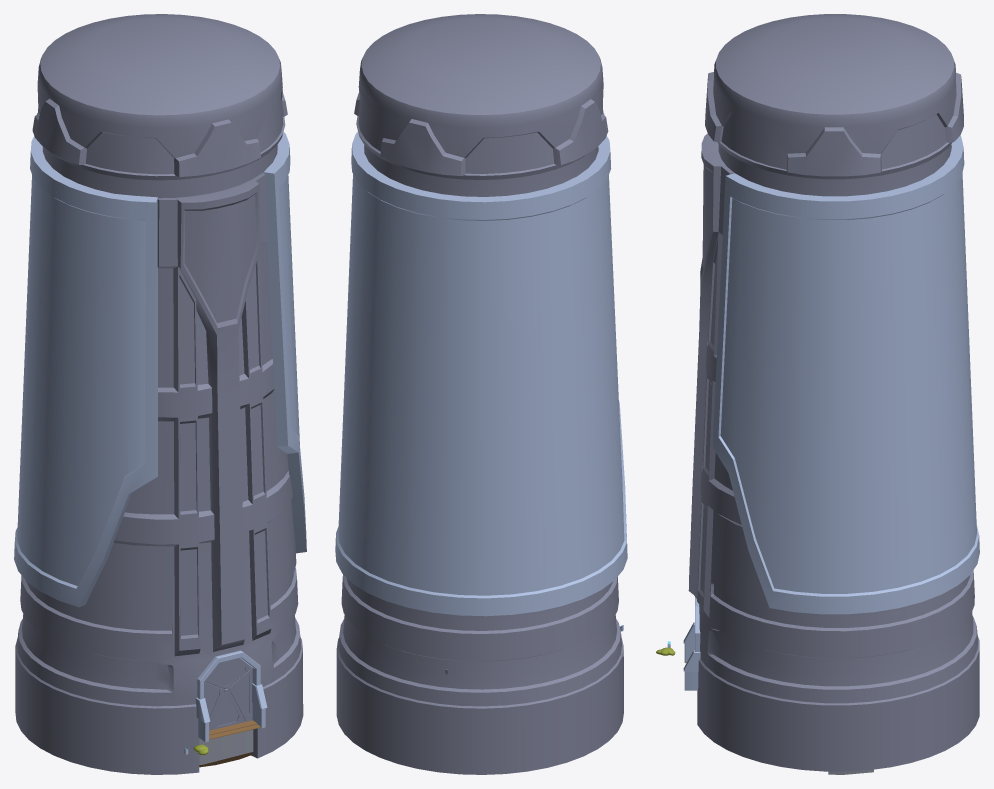
The model's file is Blocking_Tour_Tuto_Present.fbx.
3 views of the same model, side by side, from view 1: azimuth 30°, elevation 25°; view 2: azimuth 150°, elevation 25°; view 3: azimuth 270°, elevation 25° (orthographic).
Parts seen in each view (by area): view 1: TourPart1, TourPart2, pORTELP.001, Sol.003, Porte.Cotéhaut, Porte.CotéBas, Porte.Cotégauche .001; view 2: TourPart2, TourPart1; view 3: TourPart2, TourPart1, pORTELP.001.
Part boxes in pixels (x1,y1,x2,y2): TourPart1: (15, 14, 303, 774); TourPart2: (14, 132, 306, 607); pORTELP.001: (195, 650, 267, 741); Sol.003: (199, 729, 253, 764); Porte.Cotéhaut: (204, 658, 252, 688); Porte.CotéBas: (209, 688, 245, 730); Porte.Cotégauche .001: (228, 668, 252, 721); TourPart2: (335, 132, 627, 616); TourPart1: (336, 14, 623, 774); TourPart2: (712, 135, 979, 614); TourPart1: (688, 14, 979, 771); pORTELP.001: (683, 597, 700, 690).
Size of the model in its own units: 80.78 by 205 by 89.91.
